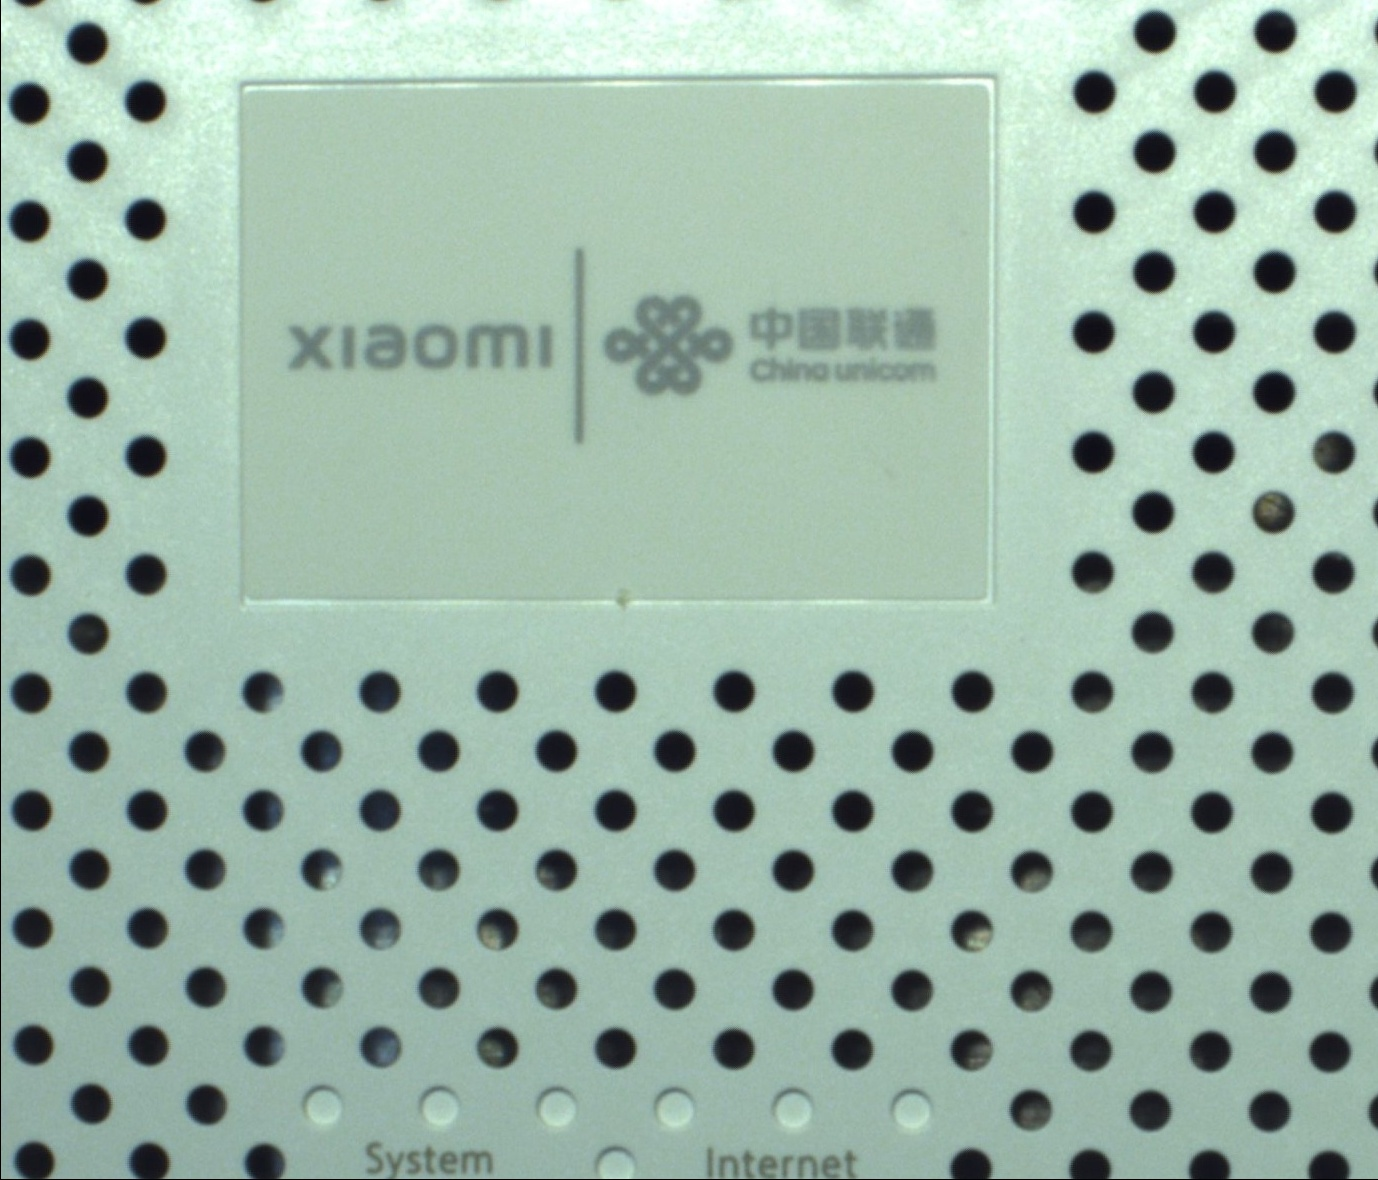MAC_NewUnicom: (270, 245, 949, 442)
